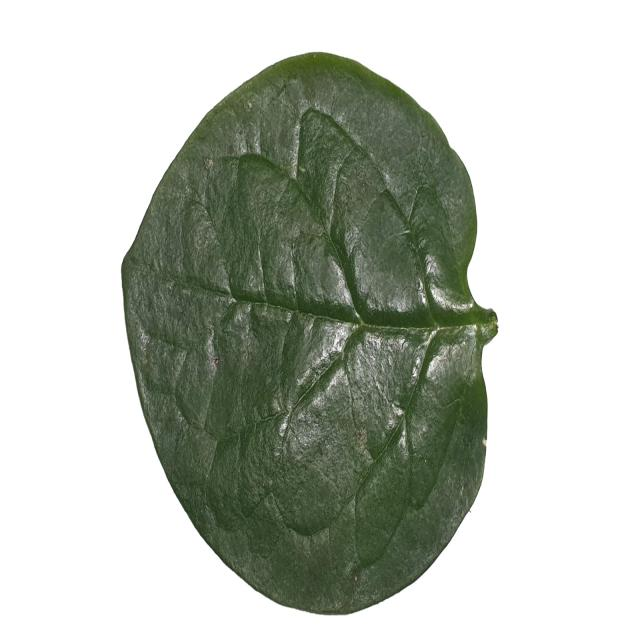Medicinal-Basale: (122, 50, 500, 618)
